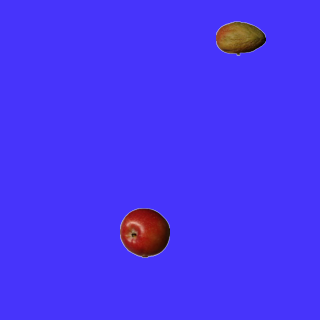Apple Braeburn: (119, 207, 169, 257)
Papaya: (215, 13, 265, 63)
